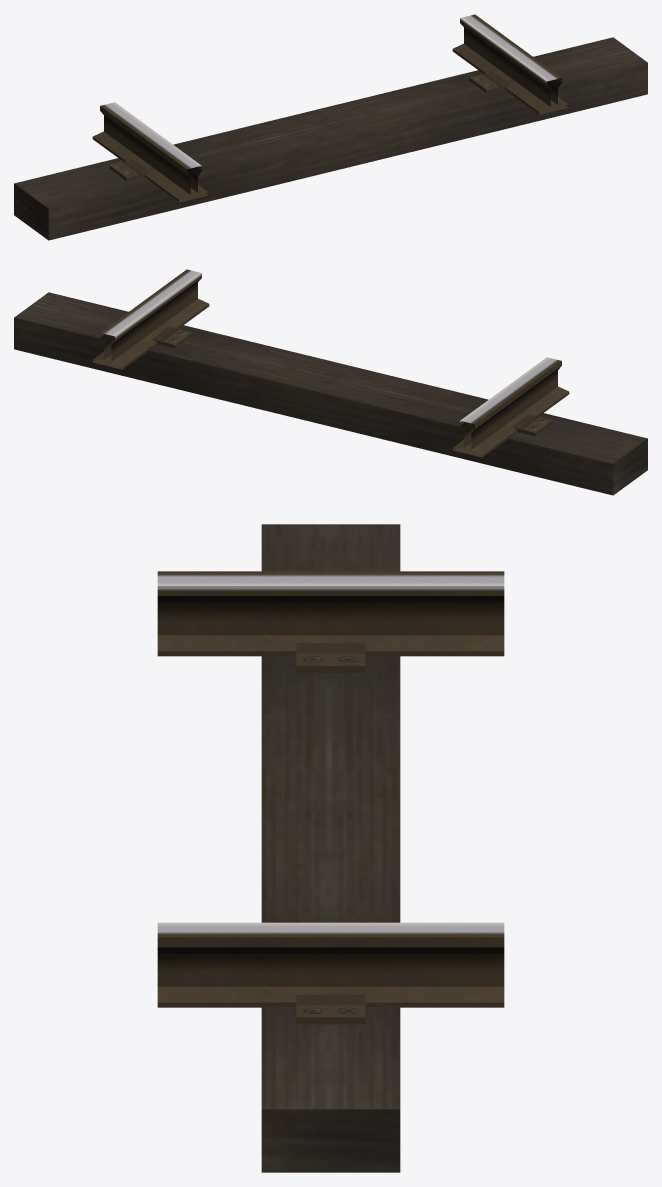
The model's file is railwood.obj.
3 views of the same model, one above another, from view 1: azimuth 30°, elevation 25°; view 2: azimuth 150°, elevation 25°; view 3: azimuth 270°, elevation 25° (orthographic). The views are drawn at different scales.
Visible parts, largest first — view 1: ModelRail_1435mm_NB_Wood_SB_alt_L; view 2: ModelRail_1435mm_NB_Wood_SB_alt_L; view 3: ModelRail_1435mm_NB_Wood_SB_alt_L.
Part boxes in pixels (x1=…): ModelRail_1435mm_NB_Wood_SB_alt_L: x1=14, y1=14, x2=647, y2=240; ModelRail_1435mm_NB_Wood_SB_alt_L: x1=14, y1=269, x2=647, y2=495; ModelRail_1435mm_NB_Wood_SB_alt_L: x1=157, y1=524, x2=504, y2=1172.
Size of the model in its own units: 2.54 by 0.2551 by 0.6377.
1 material, 1 textured.
